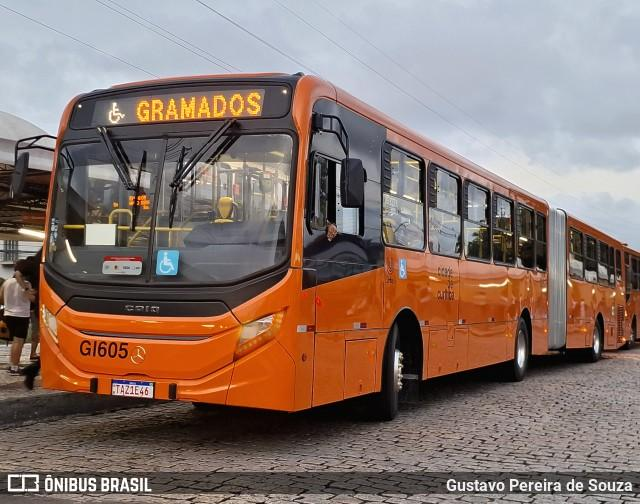GRAMADOS: (130, 89, 267, 126)
